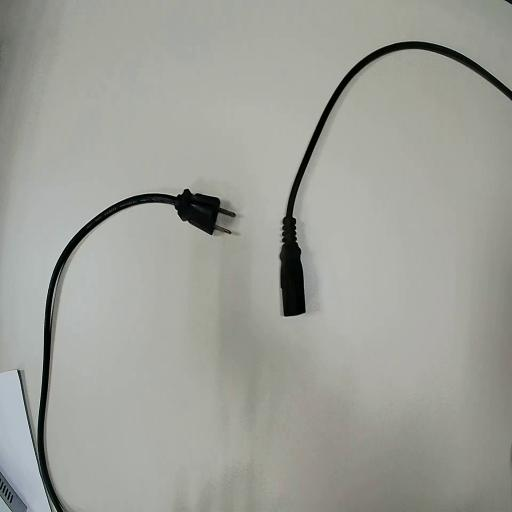wire: (281, 42, 511, 315), (38, 190, 233, 511)
